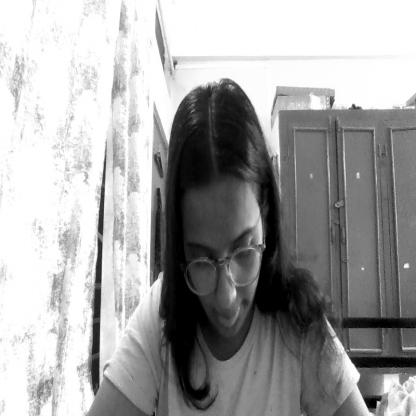Normal: (172, 82, 260, 341)
